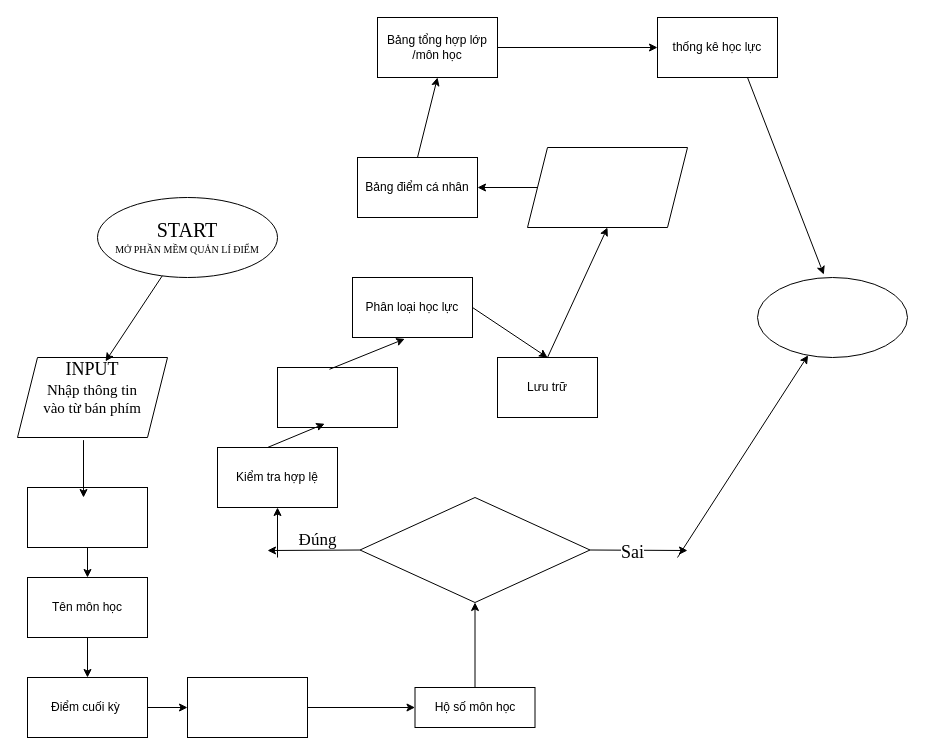
The diagram is 925 pixels wide and 755 high, and some of its shapes have lost their labels. Each missing label, with the centre of its shape:
"END" goes at [832,317].
"Mã sinh viên" goes at [87,517].
"OUTPUT XUẤT THÔNG TIN RA MÀN HÌNH" goes at [607,187].
"Process xử lí và lưu trữ" goes at [474,549].
"Tính toán điểm thống kê" goes at [337,397].
"Điểm thành phần" goes at [247,707].
